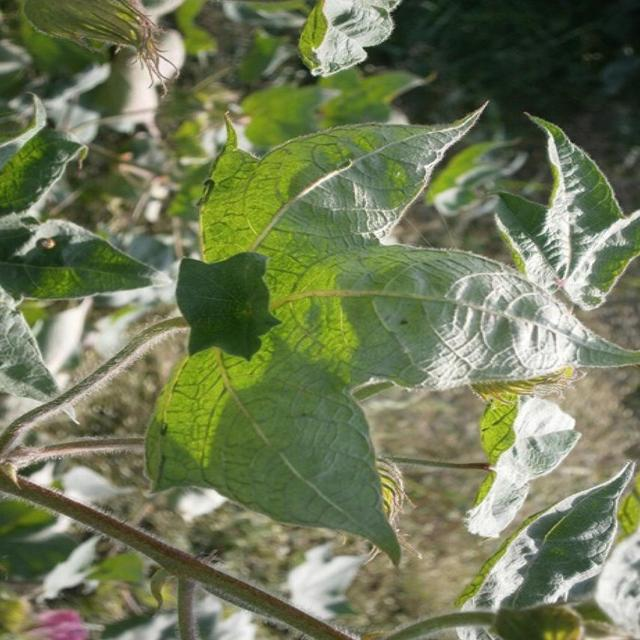Leaf Curl Virus: (204, 164, 470, 484)
